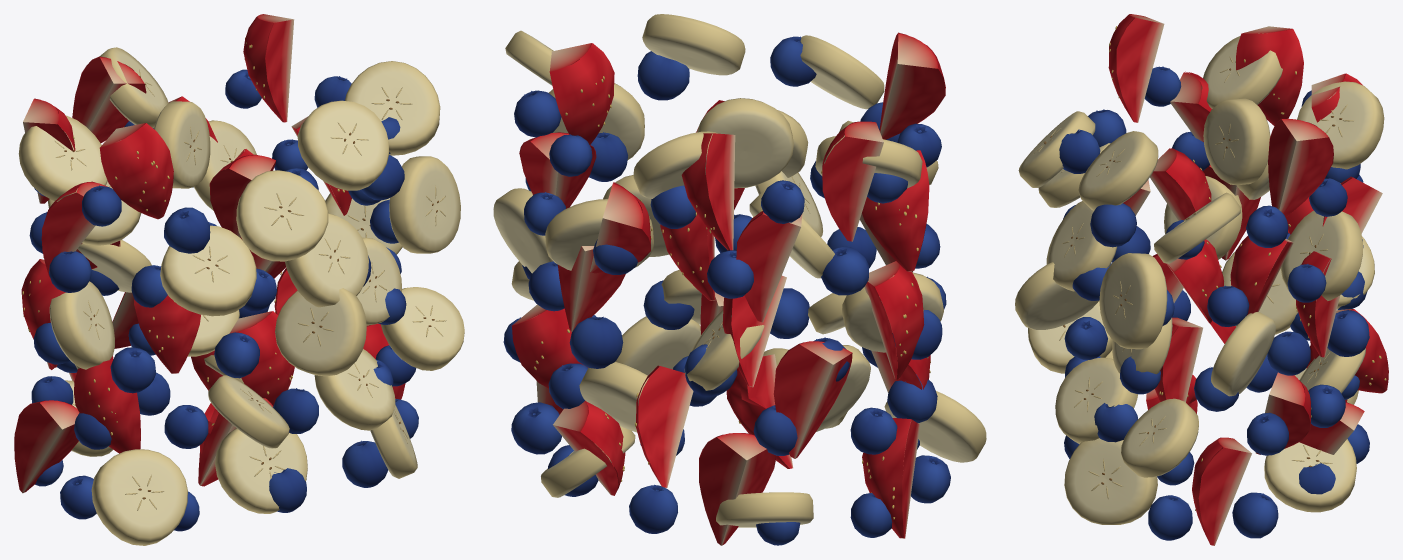
File: fruit-serving-v3.glb
3 renders of one model, left to right at view 1: azimuth 30°, elevation 25°; view 2: azimuth 150°, elevation 25°; view 3: azimuth 270°, elevation 25°, orthographic. The views are drawn at different scales.
Parts seen in each view (by area): view 1: DEMIAND full bowl bright fruit v3; view 2: DEMIAND full bowl bright fruit v3; view 3: DEMIAND full bowl bright fruit v3.
Boxes of the visible parts, x1=… form: DEMIAND full bowl bright fruit v3: x1=14, y1=14, x2=464, y2=545; DEMIAND full bowl bright fruit v3: x1=493, y1=14, x2=986, y2=545; DEMIAND full bowl bright fruit v3: x1=1015, y1=14, x2=1388, y2=545.
Size of the model in its own units: 0.132 by 0.125 by 0.108.
